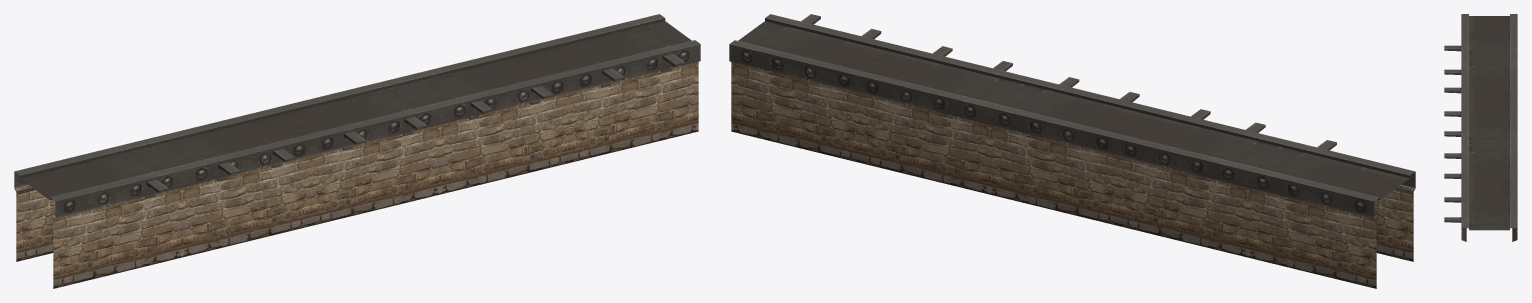
File: Item_3001_dimianwujian_shiqiang02.FBX
The picture shows the model from 3 angles, left to right: view 1: azimuth 30°, elevation 25°; view 2: azimuth 150°, elevation 25°; view 3: azimuth 270°, elevation 25°; orthographic projection. The views are drawn at different scales.
Visible parts, largest first — view 1: Item_3001_dimianwujian_shiqiang02; view 2: Item_3001_dimianwujian_shiqiang02; view 3: Item_3001_dimianwujian_shiqiang02.
Boxes of the visible parts, x1=… form: Item_3001_dimianwujian_shiqiang02: x1=14, y1=14, x2=700, y2=288; Item_3001_dimianwujian_shiqiang02: x1=729, y1=14, x2=1415, y2=288; Item_3001_dimianwujian_shiqiang02: x1=1444, y1=14, x2=1517, y2=241.
Size of the model in its own units: 1355 by 178 by 195.
